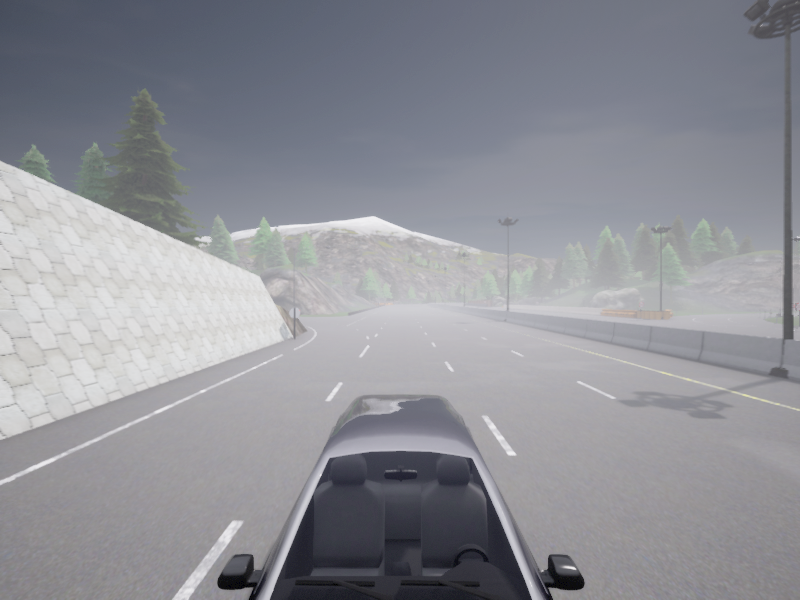vehicle: (217, 394, 584, 599)
